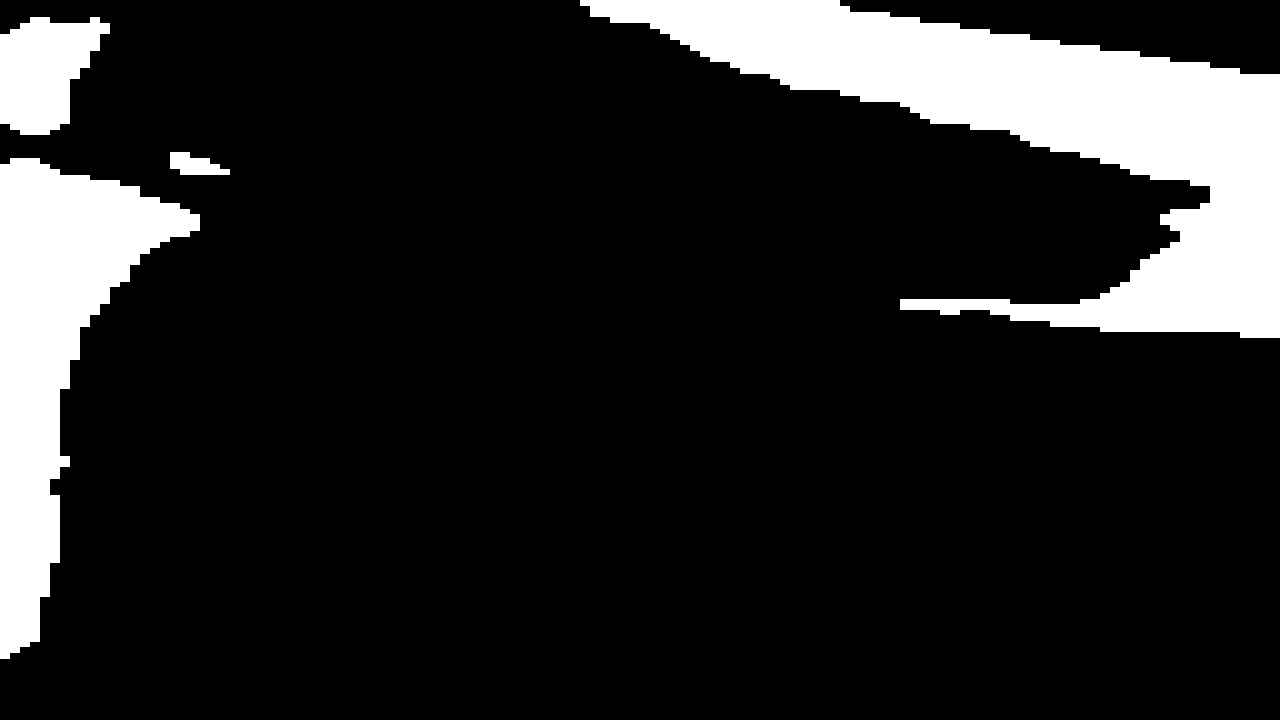Turbine: (11, 6, 1280, 352)
